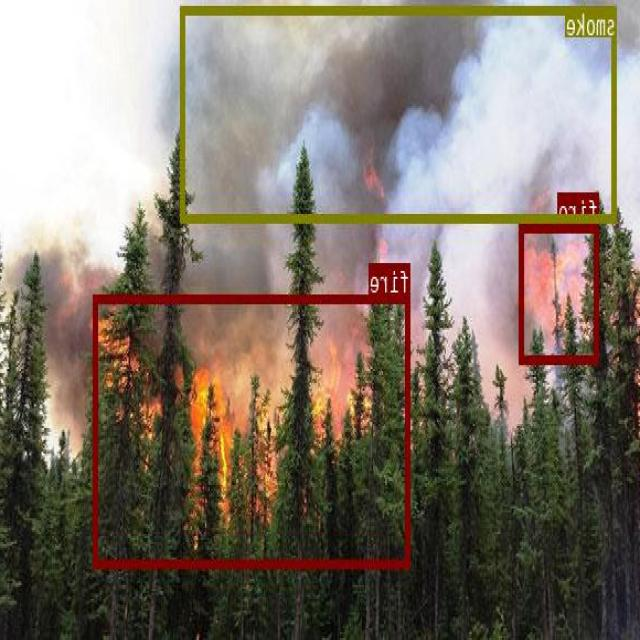fire: (95, 293, 412, 567), (520, 223, 600, 361)
smoke: (182, 5, 618, 220)
